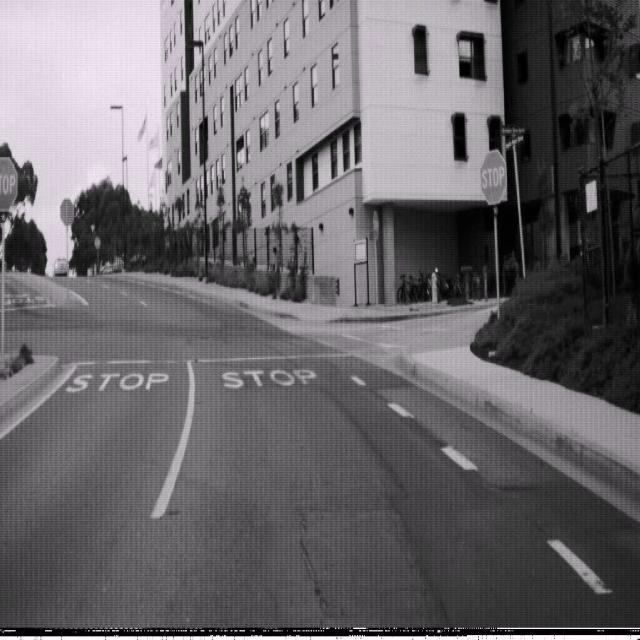stop_sign: (480, 148, 508, 205)
